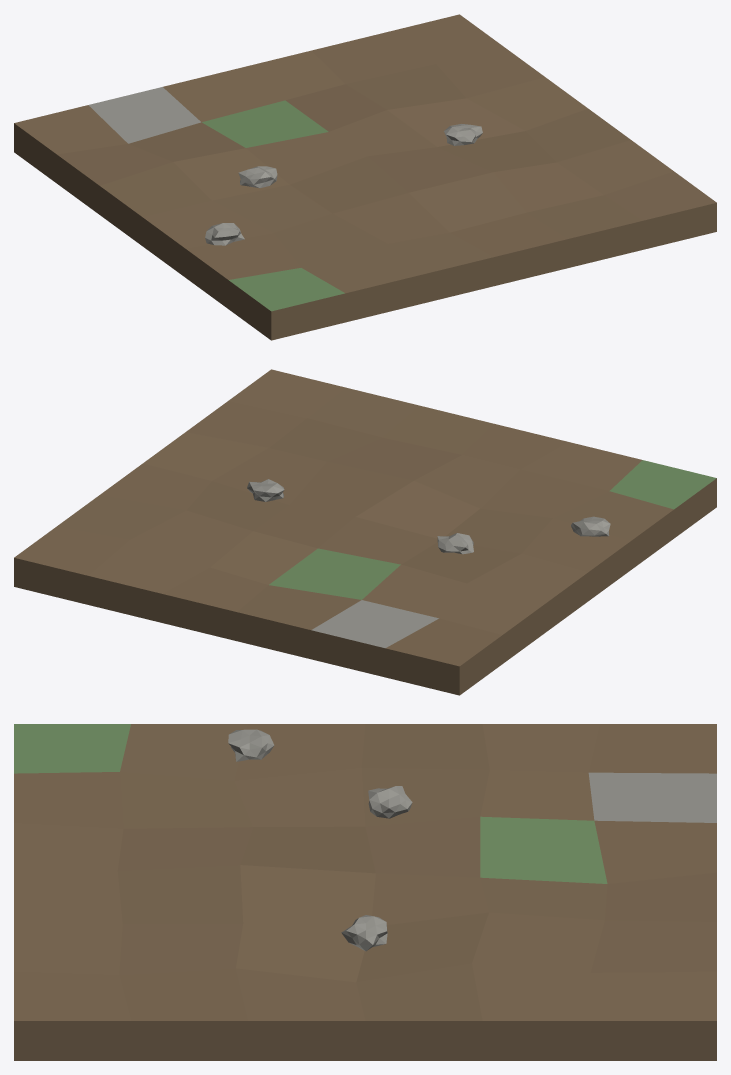
The model's file is ground_earth.glb.
The picture shows the model from 3 angles, top to bottom: view 1: azimuth 30°, elevation 25°; view 2: azimuth 150°, elevation 25°; view 3: azimuth 270°, elevation 25°; orthographic projection. The views are drawn at different scales.
Visible parts, largest first — view 1: ground_earth; view 2: ground_earth; view 3: ground_earth.
Boxes of the visible parts, <box> form: ground_earth: <box>14,14,716,340</box>; ground_earth: <box>14,369,716,695</box>; ground_earth: <box>14,724,716,1060</box>.
Size of the model in its own units: 4 by 0.363 by 4.
